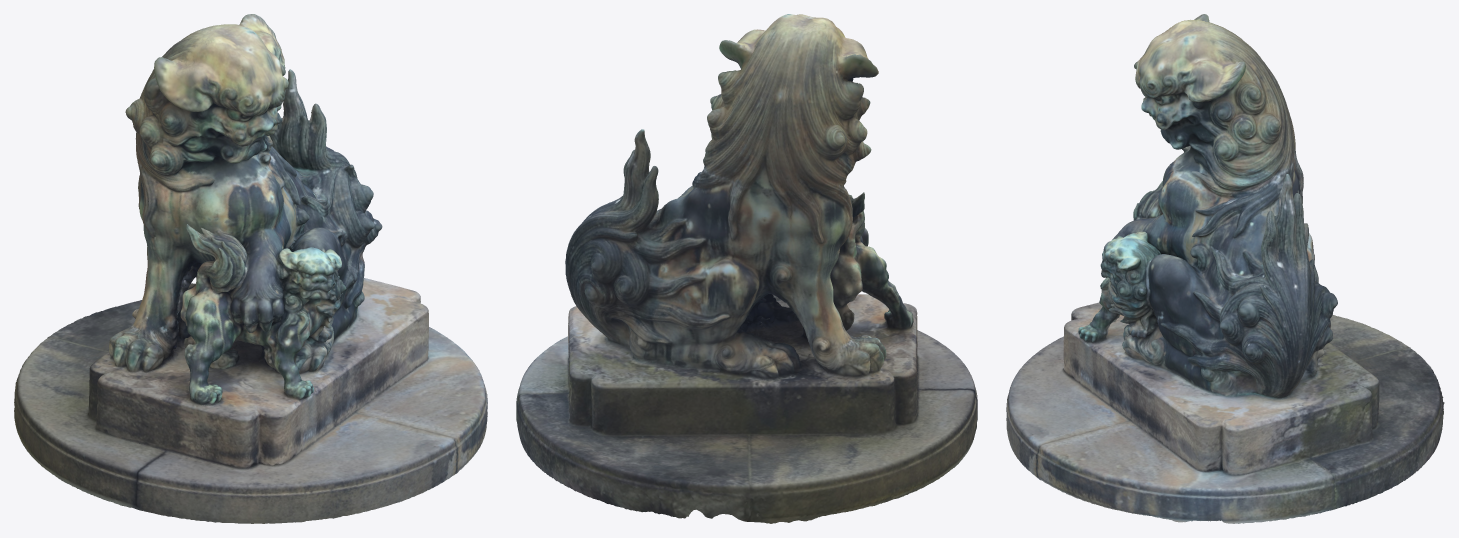
The model's file is japanese_dragon_statue.glb.
3 renders of one model, left to right at view 1: azimuth 30°, elevation 25°; view 2: azimuth 150°, elevation 25°; view 3: azimuth 270°, elevation 25°, orthographic. The views are drawn at different scales.
Parts seen in each view (by area): view 1: Model; view 2: Model; view 3: Model.
Part boxes in pixels (x1=…): Model: x1=14, y1=14, x2=487, y2=523; Model: x1=516, y1=14, x2=977, y2=523; Model: x1=1006, y1=14, x2=1444, y2=523.
Bounding box in the file's own units: 9.87 × 9.61 × 9.89.
Materials: 1 (1 with a texture image).
